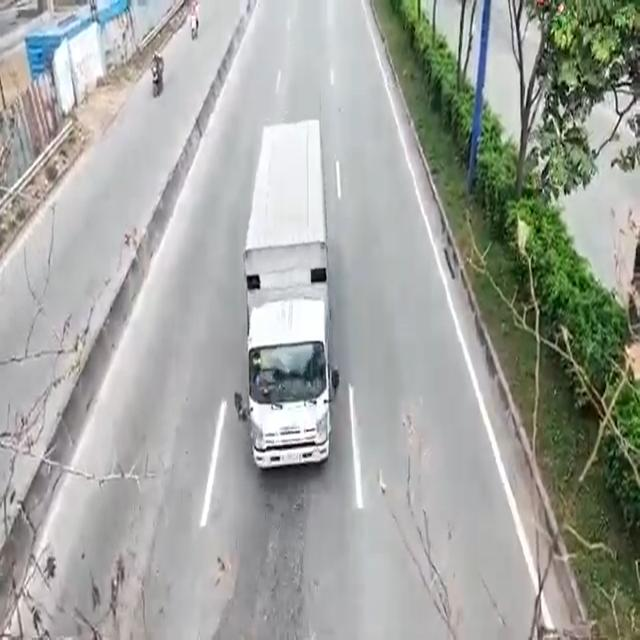motor: (150, 64, 166, 99)
truck: (247, 121, 334, 469)
